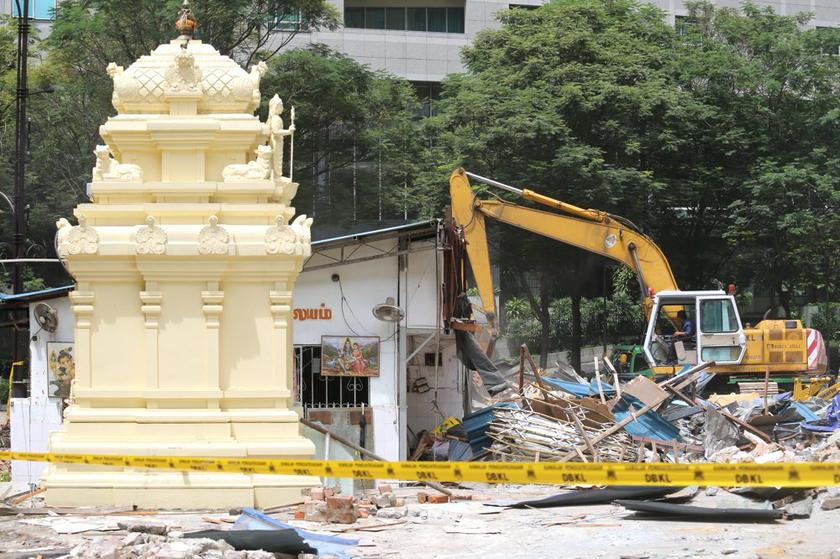Hindu Temple: (62, 14, 303, 483)
